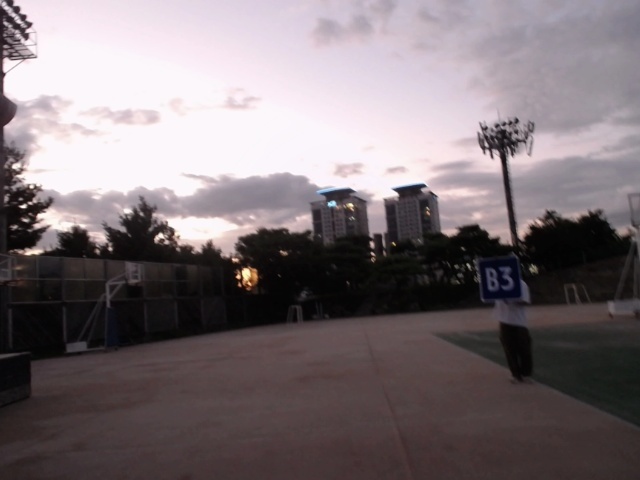delivery_b3: (477, 257, 524, 302)
